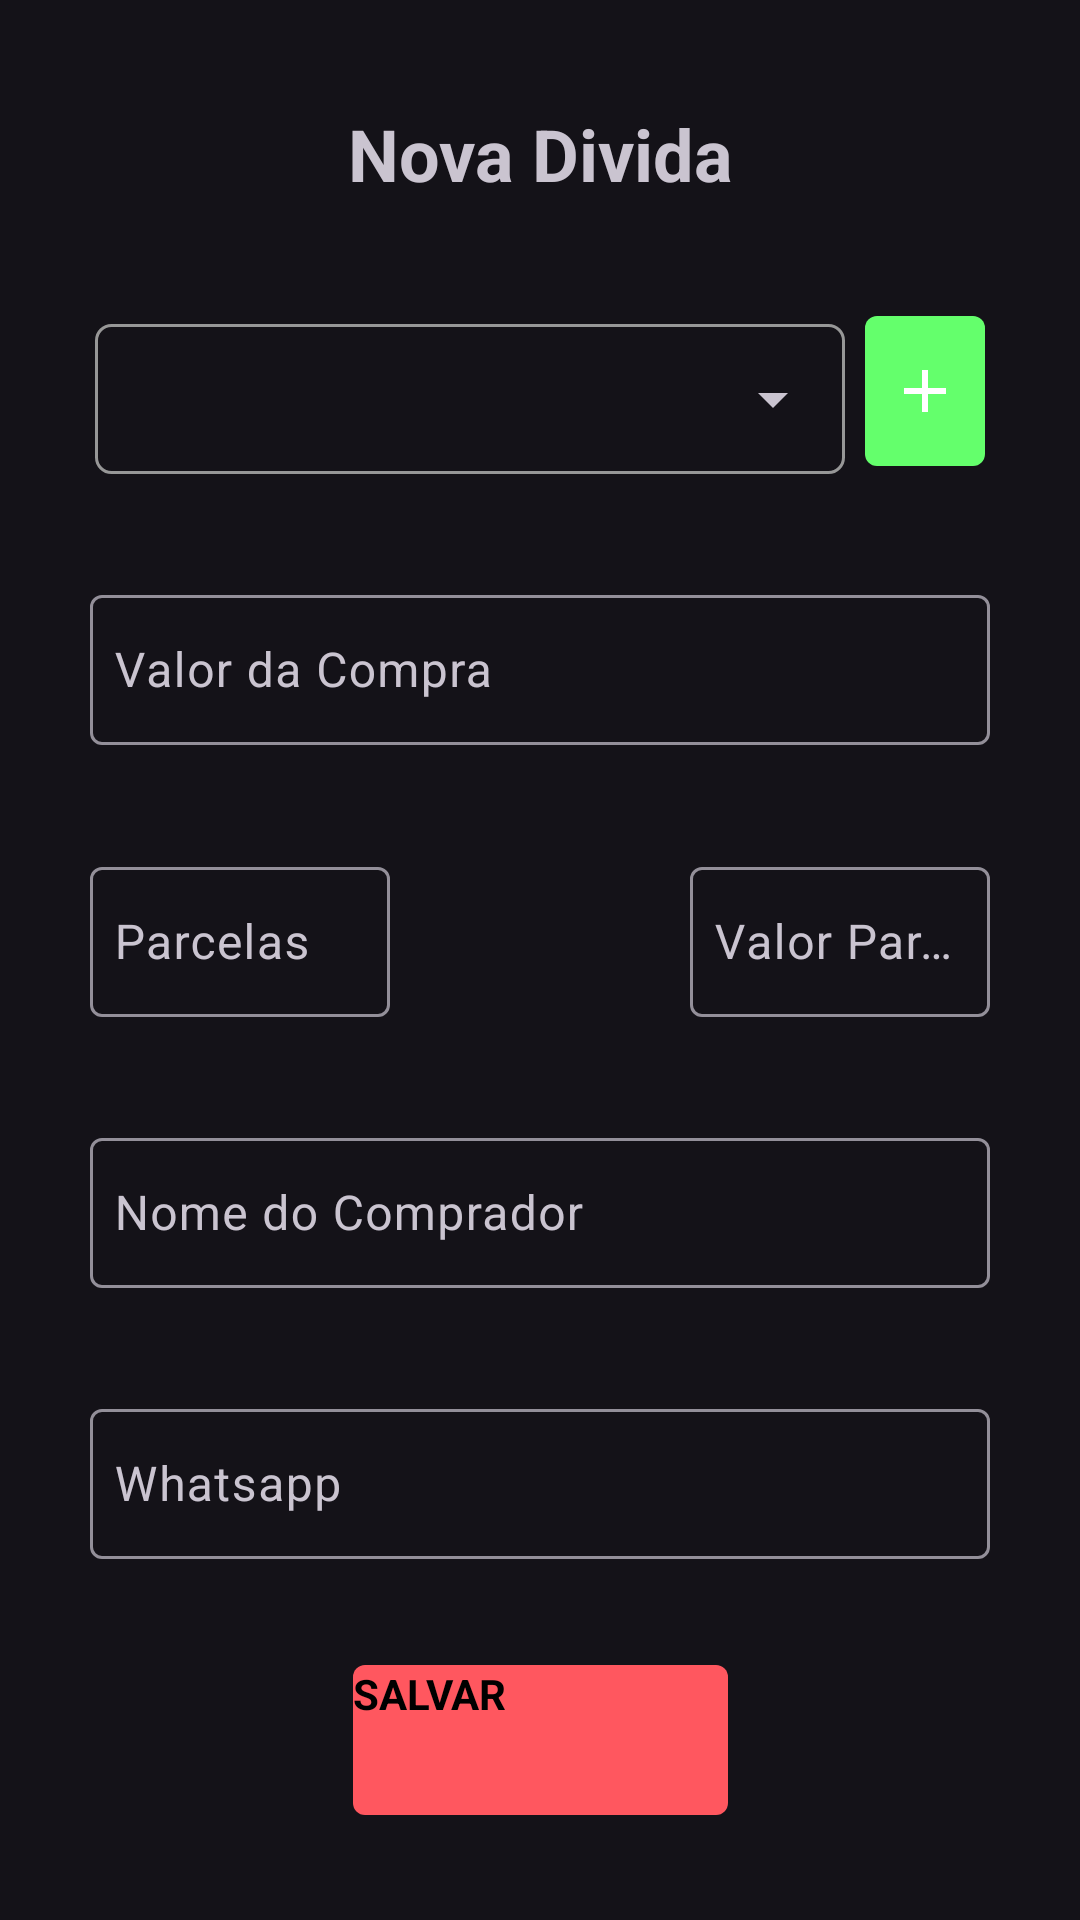

Named icons in this screenshot (1080x1920) and their bounding boxes, {"left": x1, "top": y1, "right": x2, "bottom": y2}:
add: {"left": 865, "top": 316, "right": 985, "bottom": 466}
